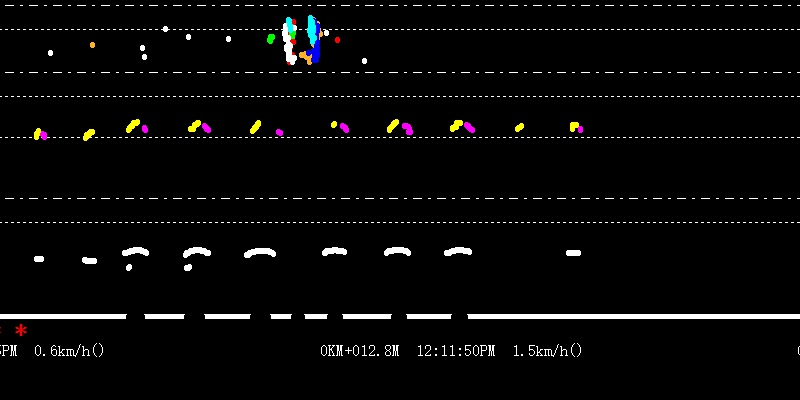J: (281, 7, 322, 66)
star: (13, 323, 28, 337)
y_p: (116, 106, 480, 265)
